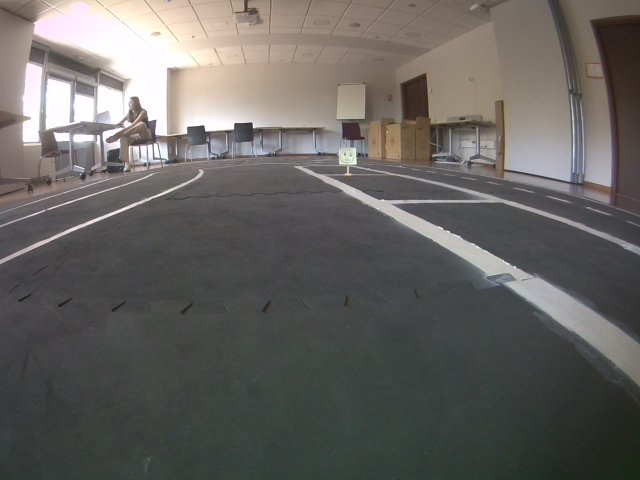Smiley: (337, 148, 358, 166)
